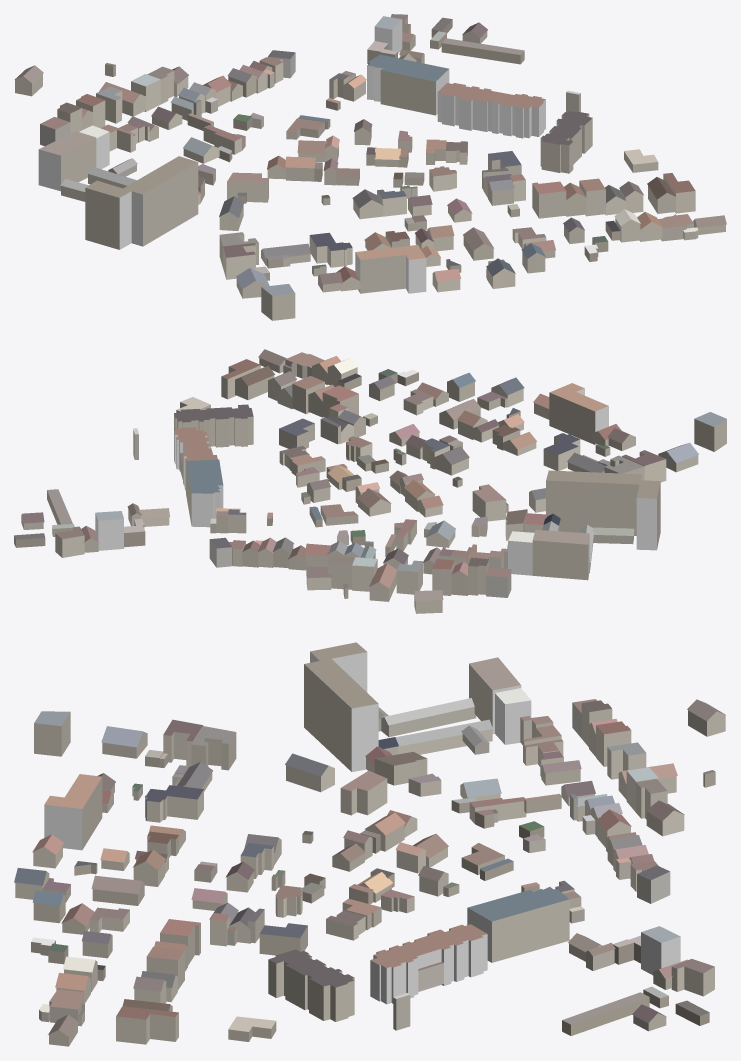
3 views of the same model, one above another, from view 1: azimuth 30°, elevation 25°; view 2: azimuth 150°, elevation 25°; view 3: azimuth 270°, elevation 25° (orthographic). The views are drawn at different scales.
Parts seen in each view (by area): view 1: tuile; view 2: tuile; view 3: tuile.
Part boxes in pixels (box(x1,y1,x2,y2)): tuile: box(14, 14, 726, 320); tuile: box(14, 349, 726, 613); tuile: box(14, 642, 725, 1046).
Bounding box in the file's own units: 271 × 38.21 × 260.
